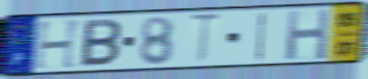8: (137, 15, 175, 67)
B: (78, 18, 124, 69)
H: (33, 17, 85, 71), (284, 7, 332, 62)
I: (254, 11, 269, 63)
T: (187, 12, 225, 66)
